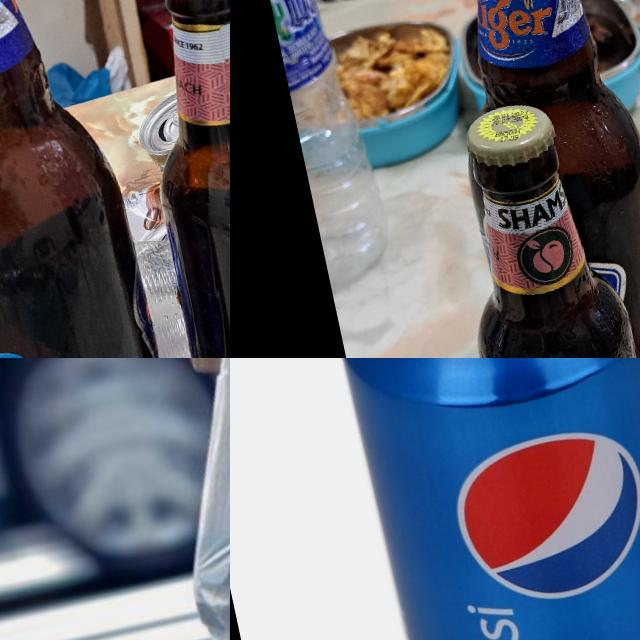garrafa de vidro: (438, 0, 640, 358), (0, 0, 171, 358), (430, 88, 640, 358)
garrafa plástica: (248, 0, 398, 292)
lata: (304, 358, 640, 640), (134, 86, 190, 166)
sacola plástica: (127, 358, 230, 640)
